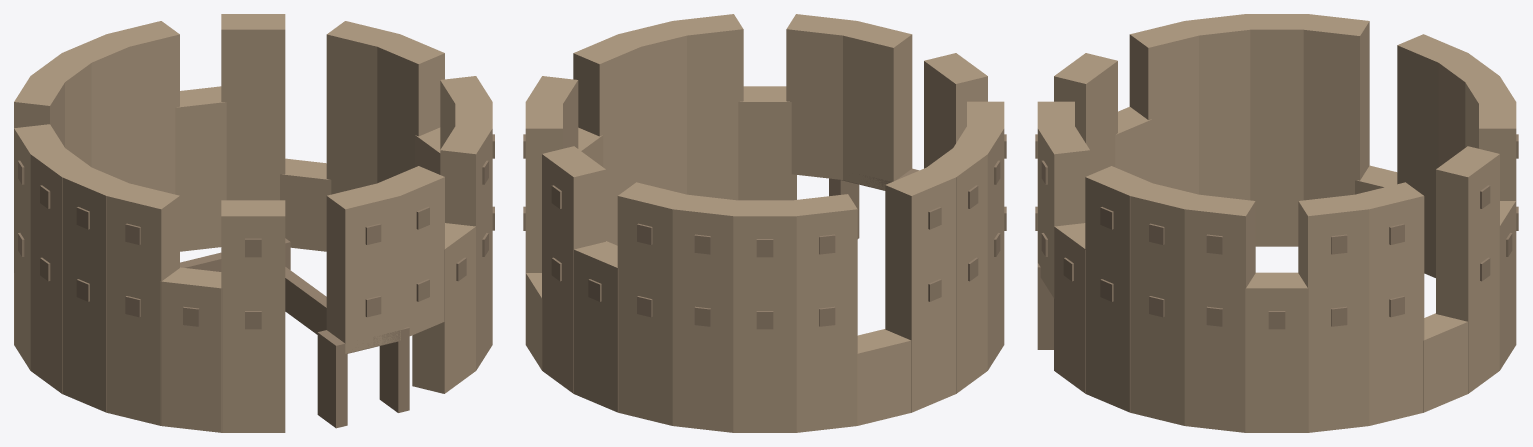
Rendered from tulou.glb.
The picture shows the model from 3 angles, left to right: view 1: azimuth 30°, elevation 25°; view 2: azimuth 150°, elevation 25°; view 3: azimuth 270°, elevation 25°; orthographic projection.
Parts seen in each view (by area): view 1: tulou; view 2: tulou; view 3: tulou.
Part boxes in pixels (x1,y1,x2,y2): tulou: [14, 14, 494, 432]; tulou: [523, 14, 1006, 432]; tulou: [1035, 14, 1518, 432].
Size of the model in its own units: 18.18 by 9 by 18.18.
